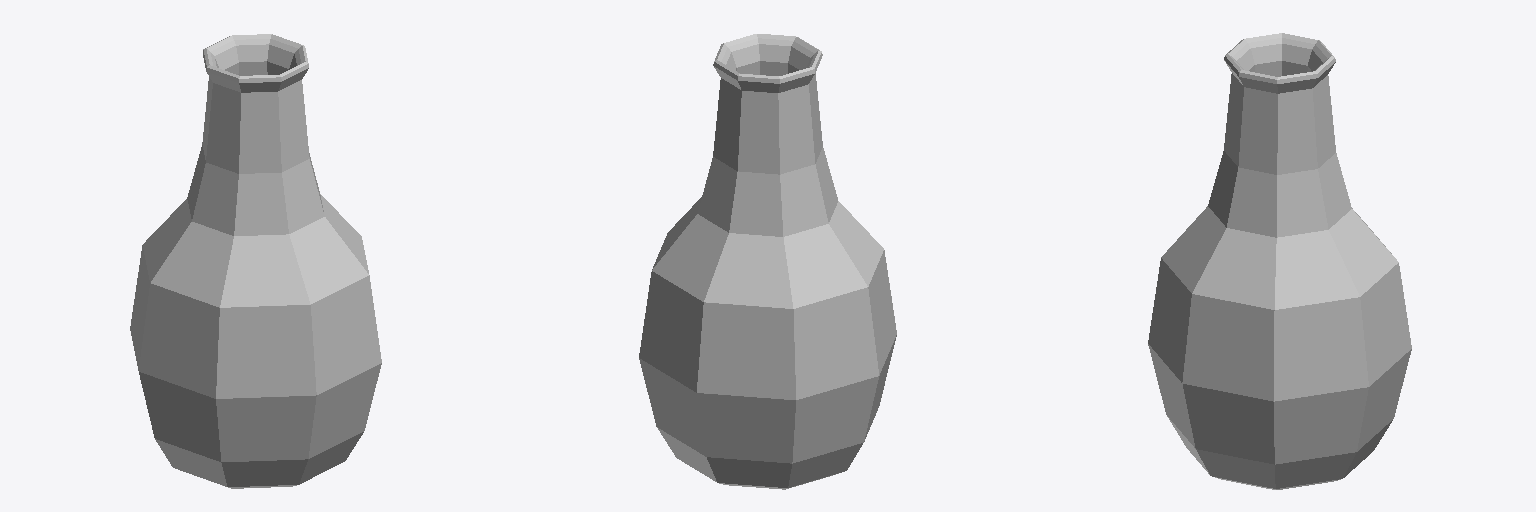
The model's file is vase_1_001.obj.
The picture shows the model from 3 angles: view 1: azimuth 30°, elevation 25°; view 2: azimuth 150°, elevation 25°; view 3: azimuth 270°, elevation 25°; orthographic projection.
Visible parts, largest first — view 1: mug_3.003_Cube.006; view 2: mug_3.003_Cube.006; view 3: mug_3.003_Cube.006.
Boxes of the visible parts, box(x1,y1,x2,y2) form: mug_3.003_Cube.006: box(130, 34, 381, 488); mug_3.003_Cube.006: box(639, 34, 896, 489); mug_3.003_Cube.006: box(1148, 33, 1411, 489).
Bounding box in the file's own units: 0.3031 × 0.509 × 0.3031.